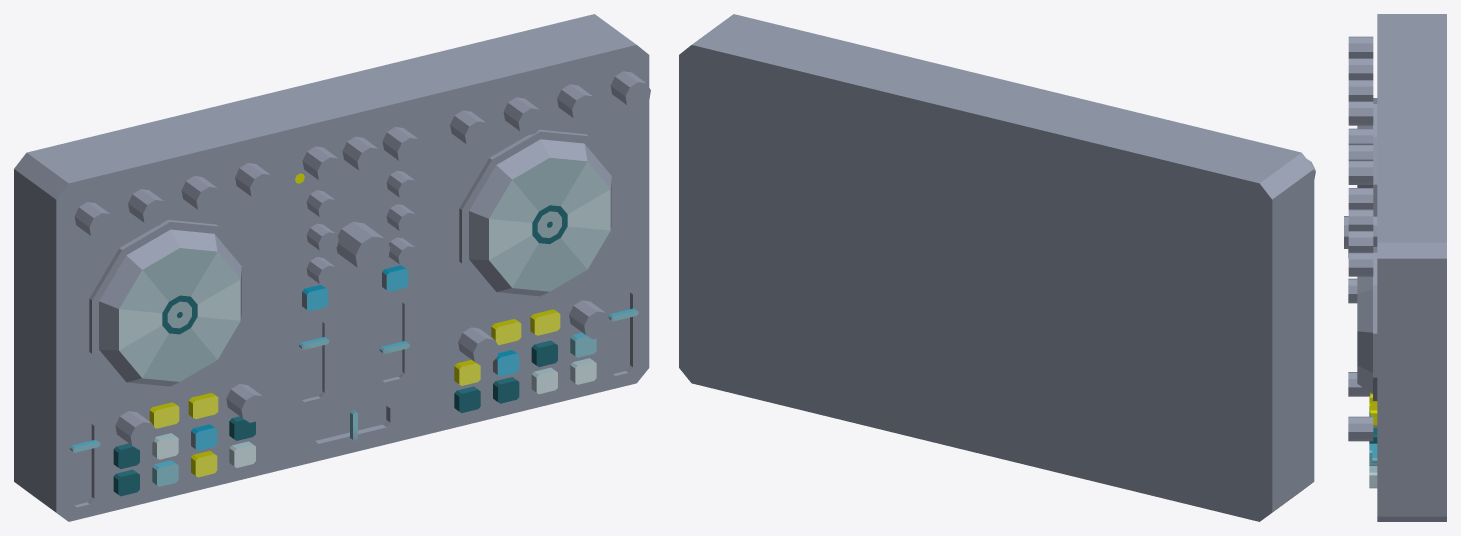
File: Turntable.fbx
3 renders of one model, left to right at view 1: azimuth 30°, elevation 25°; view 2: azimuth 150°, elevation 25°; view 3: azimuth 270°, elevation 25°, orthographic. The views are drawn at different scales.
Parts seen in each view (by area): view 1: Turntable; view 2: Turntable; view 3: Turntable.
Part boxes in pixels (<box>): Turntable: <box>14,14,650,521</box>; Turntable: <box>679,14,1315,521</box>; Turntable: <box>1344,14,1446,521</box>.
Bounding box in the file's own units: 7.98 × 4.35 × 1.45.
